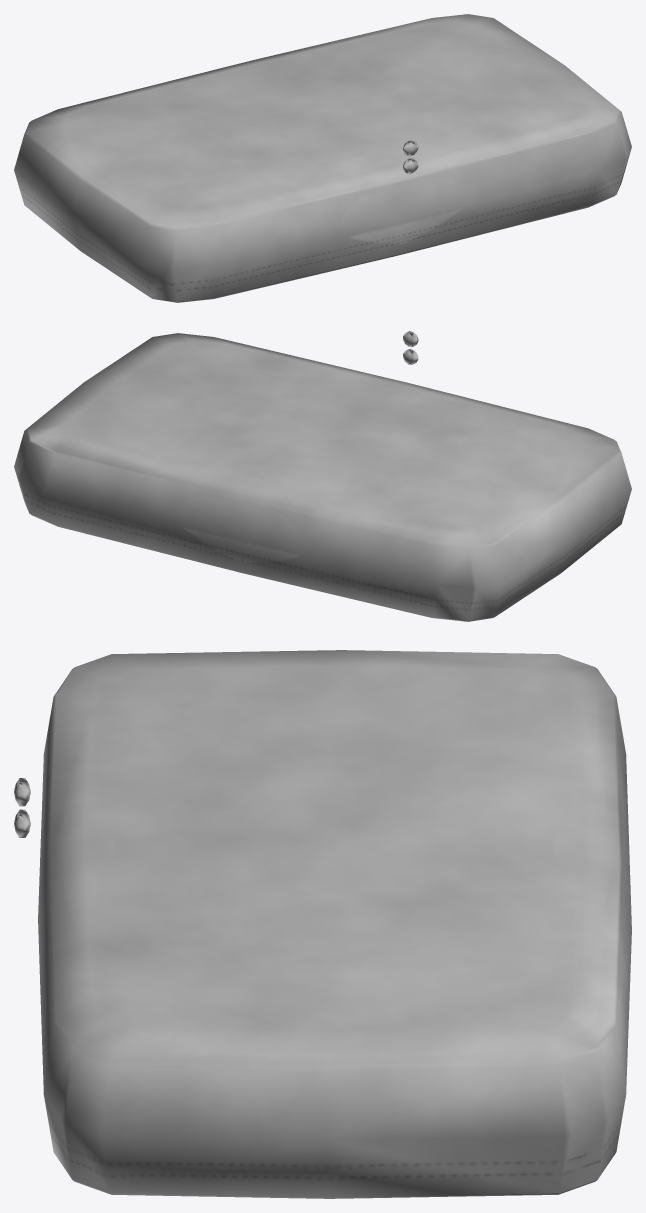
File: LowerTorso_C1.fbx
3 views of the same model, one above another, from view 1: azimuth 30°, elevation 25°; view 2: azimuth 150°, elevation 25°; view 3: azimuth 270°, elevation 25° (orthographic). The views are drawn at different scales.
Visible parts, largest first — view 1: Civ_SacoOficina_LowerTorso_C1; view 2: Civ_SacoOficina_LowerTorso_C1; view 3: Civ_SacoOficina_LowerTorso_C1.
Part boxes in pixels (bbox=[...]): Civ_SacoOficina_LowerTorso_C1: bbox=[14, 14, 631, 302]; Civ_SacoOficina_LowerTorso_C1: bbox=[14, 331, 631, 621]; Civ_SacoOficina_LowerTorso_C1: bbox=[14, 650, 631, 1198].
Size of the model in its own units: 2.35 by 0.5668 by 1.42.
